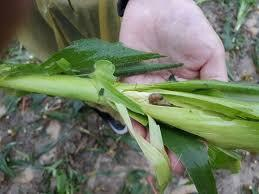fallarmy_worm: (144, 89, 176, 109)
